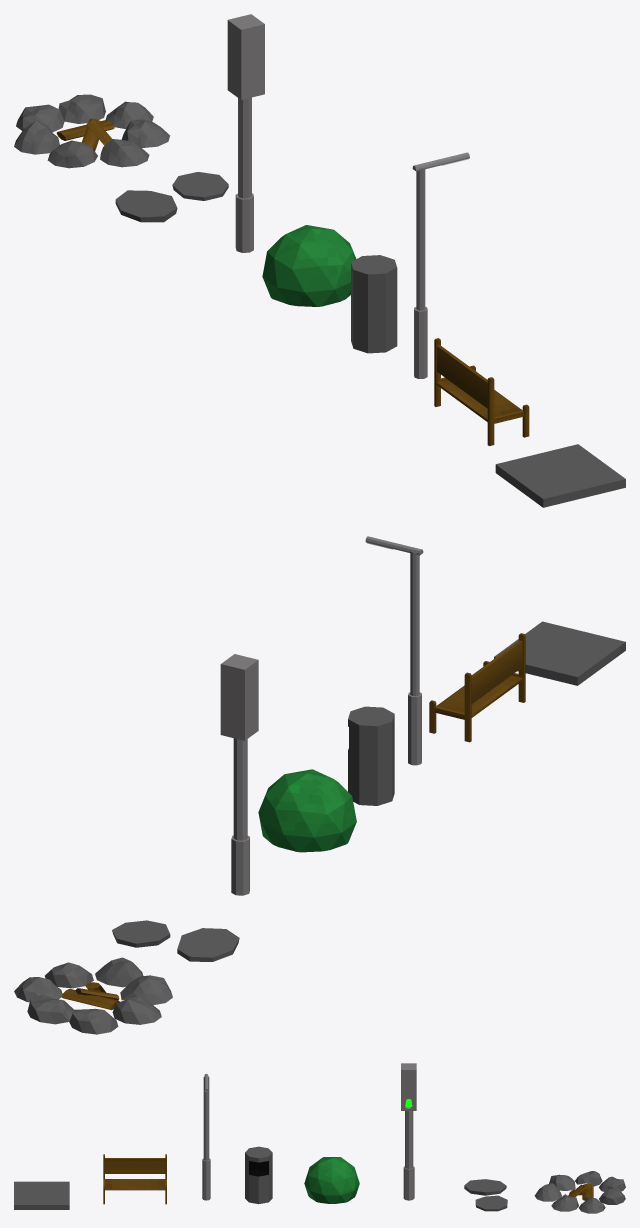
Rendered from decorations.fbx.
3 renders of one model, top to bottom at view 1: azimuth 30°, elevation 25°; view 2: azimuth 150°, elevation 25°; view 3: azimuth 270°, elevation 25°, orthographic. The views are drawn at different scales.
Visible parts, largest first — view 1: BasePlate.003, Bush, Traffic_light, BasePlate, Trashcan, Bench, Lamp, Stepping_1, Stepping_2; view 2: BasePlate.003, Bush, Traffic_light, BasePlate, Trashcan, Bench, Lamp, Stepping_1, Stepping_2; view 3: BasePlate.003, Bush, Bench, Traffic_light, BasePlate, Trashcan, Lamp, Stepping_1, Stepping_2.
Part boxes in pixels (x1,y1,x2,y2): BasePlate.003: (14,94,170,168); Bush: (262,225,356,306); Traffic_light: (227,14,264,252); BasePlate: (495,444,625,507); Trashcan: (351,255,397,353); Bench: (434,338,529,445); Lamp: (412,152,469,378); Stepping_1: (115,190,177,222); Stepping_2: (172,172,228,200); BasePlate.003: (14,957,172,1034); Bush: (258,769,356,852); Traffic_light: (220,654,258,895); BasePlate: (494,621,625,685); Trashcan: (348,706,394,805); Bench: (429,633,525,742); Lamp: (365,536,423,765); Stepping_1: (177,928,239,961); Stepping_2: (112,920,170,947); BasePlate.003: (534,1171,625,1213); Bush: (304,1157,359,1203); Bench: (103,1154,166,1204); Traffic_light: (401,1063,416,1200); BasePlate: (14,1181,69,1209); Trashcan: (245,1146,272,1204); Lamp: (202,1073,210,1200); Stepping_1: (464,1179,506,1195); Stepping_2: (475,1195,507,1211).
Bounding box in the file's own units: 164 × 269 × 1102.
